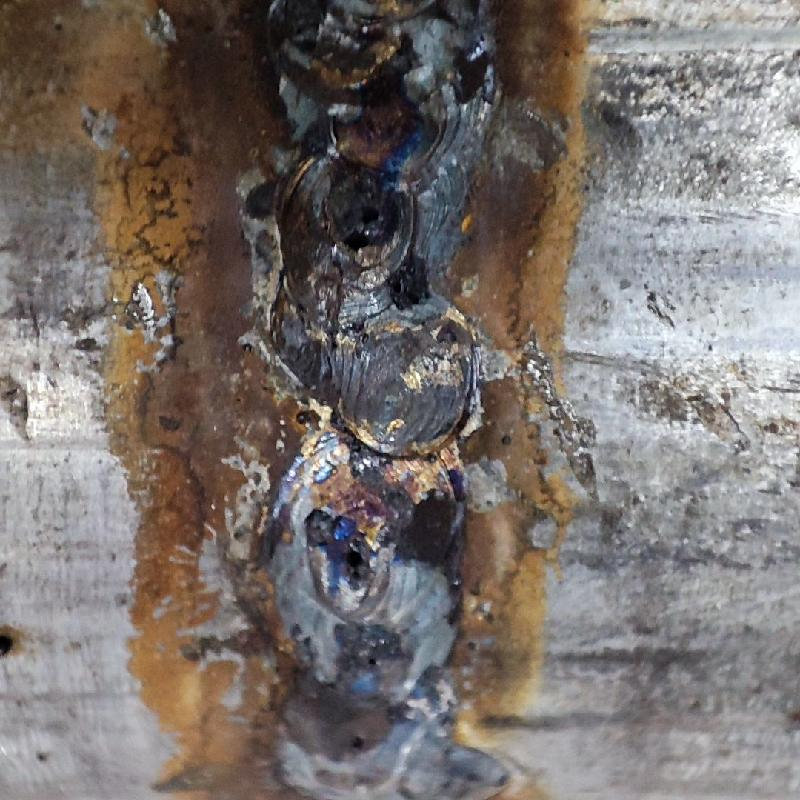Not_fully_soldered: (274, 277, 497, 799)
Surface_pores: (331, 190, 397, 261), (333, 523, 383, 595), (336, 719, 387, 761)
